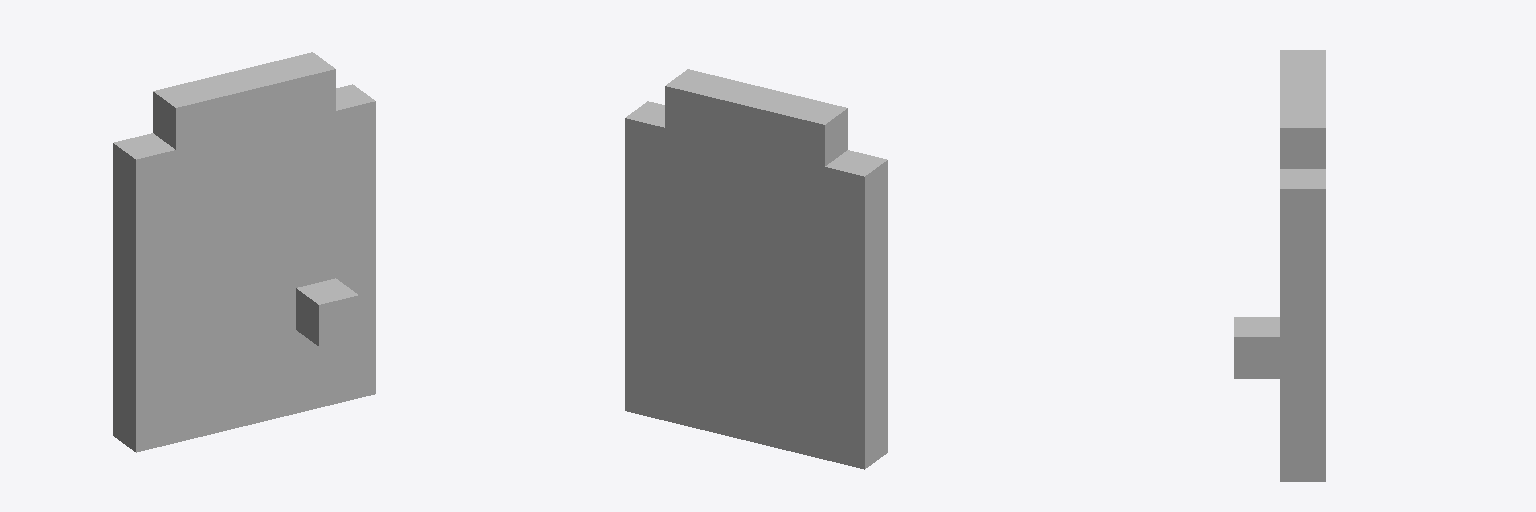
Rendered from porte.obj.
3 renders of one model, left to right at view 1: azimuth 30°, elevation 25°; view 2: azimuth 150°, elevation 25°; view 3: azimuth 270°, elevation 25°, orthographic.
Visible parts, largest first — view 1: object 1; view 2: object 1; view 3: object 1.
Boxes of the visible parts, x1,y1,x2,y2 form: object 1: [113, 52, 375, 452]; object 1: [625, 69, 887, 469]; object 1: [1234, 50, 1325, 481].
Bounding box in the file's own units: 0.6 × 0.8 × 0.2.